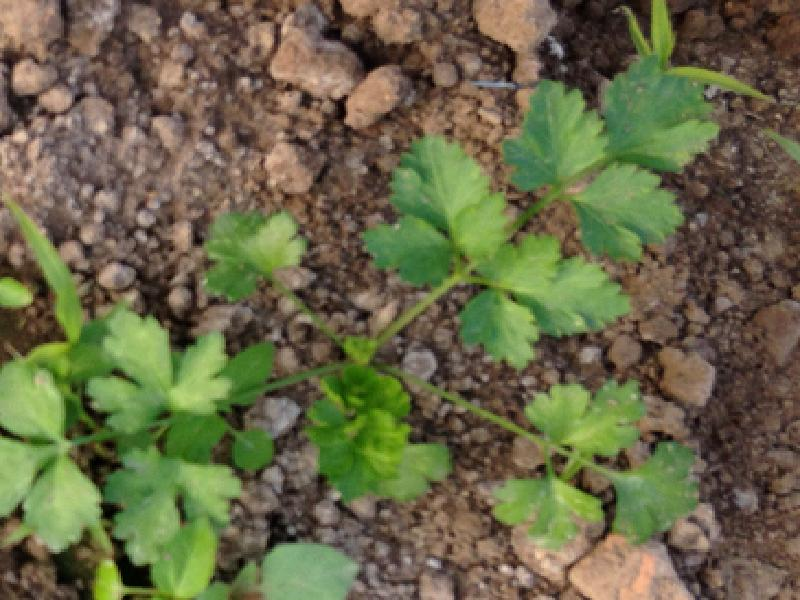radish: (213, 110, 675, 504)
